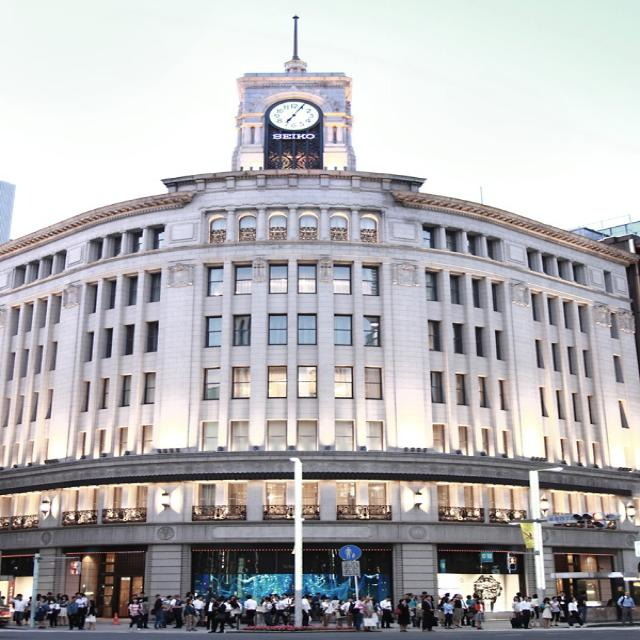body: (206, 597, 227, 634), (615, 591, 637, 626), (347, 594, 366, 633), (420, 594, 438, 633), (32, 596, 52, 630), (148, 596, 168, 630), (217, 598, 238, 630), (566, 596, 587, 628), (392, 598, 411, 633), (182, 598, 200, 632), (202, 596, 220, 630), (8, 592, 26, 626), (358, 594, 374, 632), (612, 585, 628, 622), (170, 593, 186, 629), (518, 594, 534, 630), (271, 595, 289, 626), (242, 594, 258, 628), (378, 594, 394, 628), (260, 596, 278, 626), (339, 596, 356, 627), (554, 590, 572, 619), (45, 597, 61, 629), (127, 598, 142, 632), (74, 592, 88, 628), (259, 596, 275, 626), (319, 596, 334, 627), (83, 599, 98, 629), (56, 594, 70, 626), (164, 594, 178, 626), (367, 598, 381, 630), (456, 594, 470, 626), (452, 592, 464, 629), (65, 596, 78, 630), (511, 595, 524, 629), (575, 589, 588, 623), (547, 595, 561, 626), (56, 593, 70, 623), (332, 599, 347, 626), (442, 596, 454, 628), (540, 596, 552, 628), (300, 594, 311, 626), (473, 598, 484, 630), (406, 595, 419, 622), (191, 594, 206, 617), (196, 597, 208, 625), (184, 591, 194, 624), (140, 596, 150, 629), (530, 593, 541, 619), (438, 592, 452, 612), (233, 597, 243, 624), (136, 591, 150, 609), (435, 596, 450, 611), (288, 592, 294, 626), (44, 591, 58, 605), (11, 594, 18, 622), (410, 613, 421, 630), (34, 593, 43, 613), (312, 592, 322, 609), (420, 591, 435, 602), (465, 594, 474, 612), (227, 594, 238, 608), (330, 594, 339, 609), (154, 593, 168, 602), (28, 596, 33, 620), (470, 594, 480, 604), (318, 593, 326, 605), (266, 591, 277, 599), (515, 592, 523, 602), (402, 591, 411, 599), (0, 595, 6, 606), (281, 592, 288, 600), (131, 593, 139, 599), (449, 596, 456, 602), (527, 596, 532, 602), (539, 622, 544, 627), (74, 591, 79, 596), (84, 594, 88, 597)
